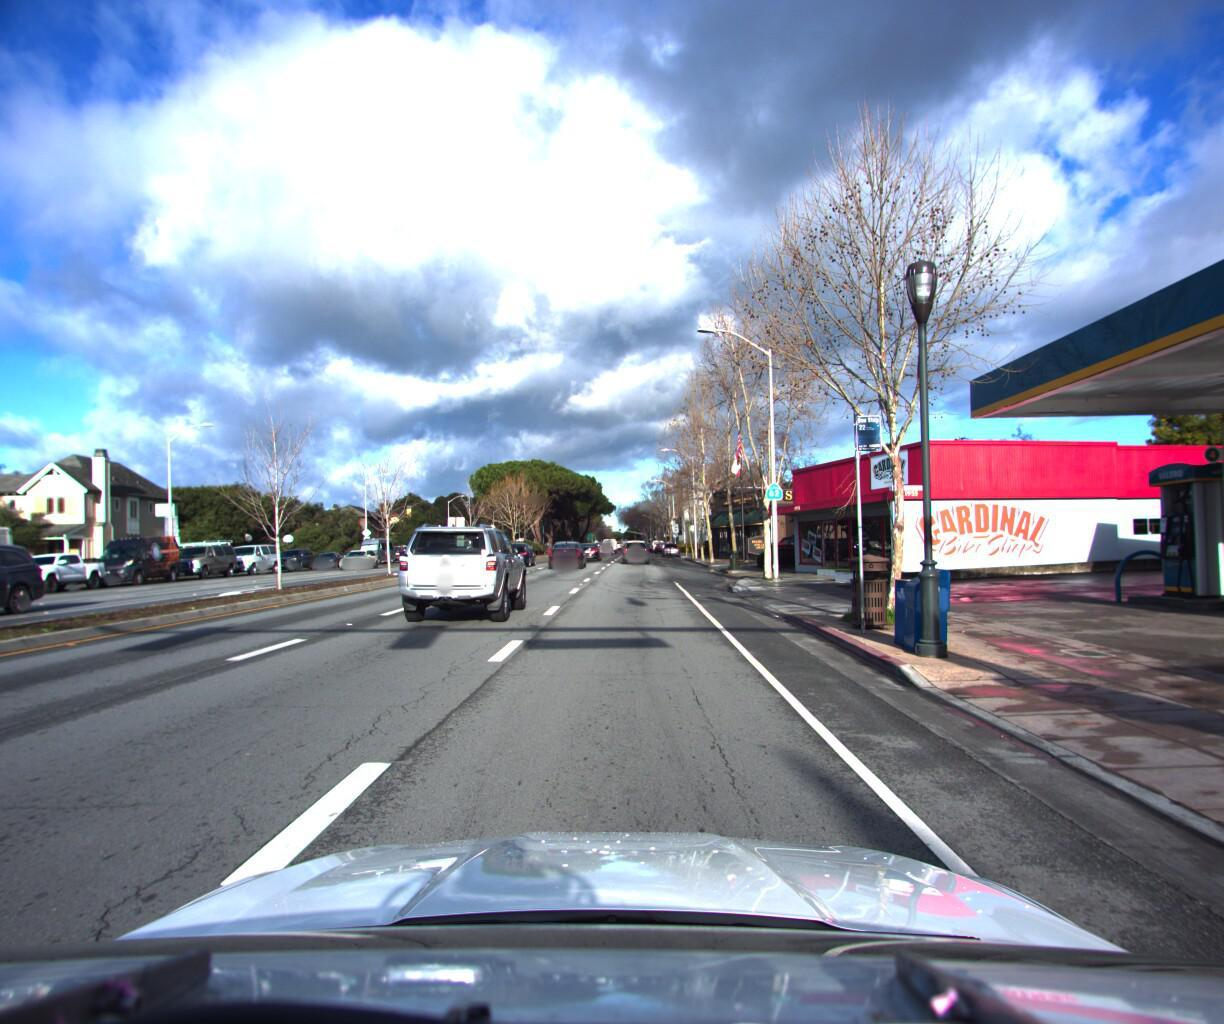car: (389, 515, 534, 625), (0, 540, 64, 636), (82, 529, 187, 585), (0, 548, 117, 596), (160, 534, 243, 578), (218, 538, 285, 573), (267, 542, 320, 568), (546, 537, 588, 566), (497, 536, 538, 563), (336, 544, 384, 566), (309, 546, 348, 565), (620, 534, 649, 559), (574, 541, 601, 560), (660, 535, 679, 551)
other_vehicle: (0, 506, 32, 613)
